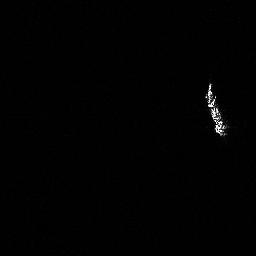ship: (200, 80, 231, 139)
